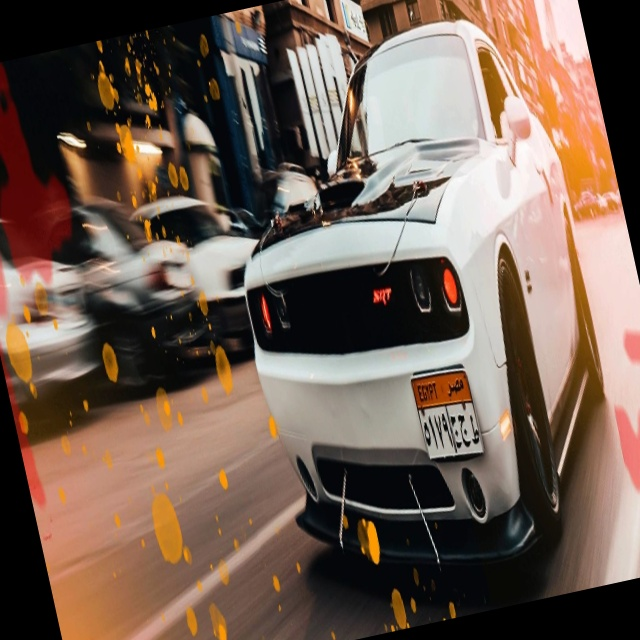License Plate: (408, 361, 488, 472)
